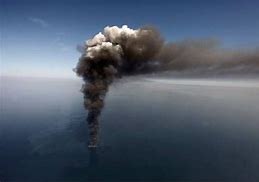smoke: (72, 23, 155, 141)
